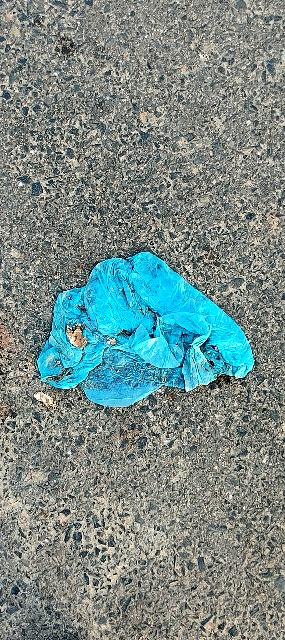polythene: (0, 198, 280, 494)
